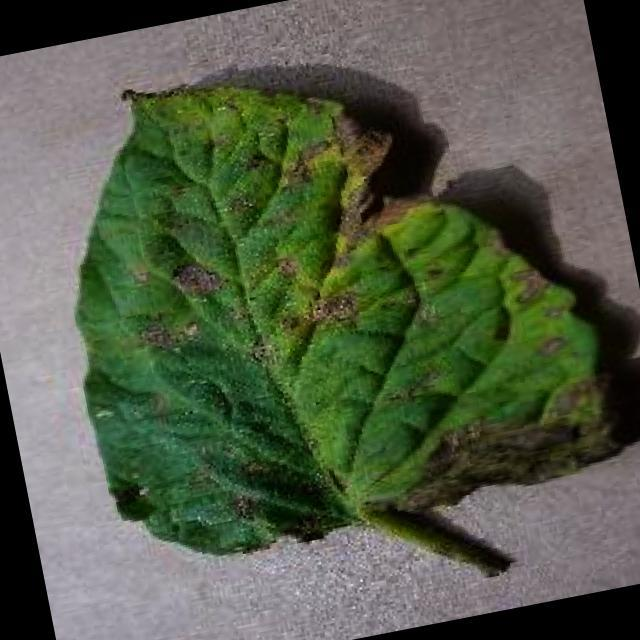Tomato Early blight leaf: (26, 4, 634, 582)
